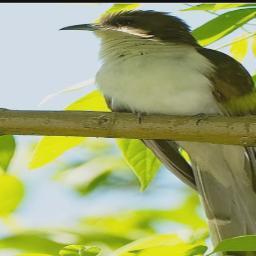Cuckoo: (58, 9, 256, 256)
